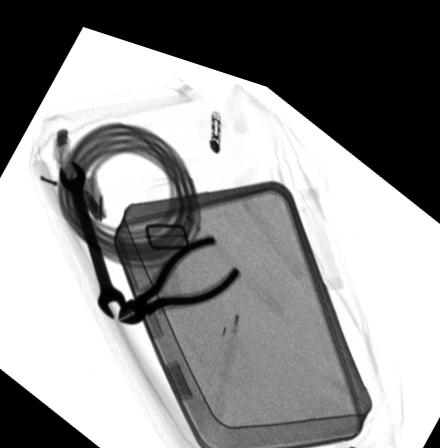Pliers: (117, 215, 242, 313)
Wrench: (58, 154, 129, 310)
